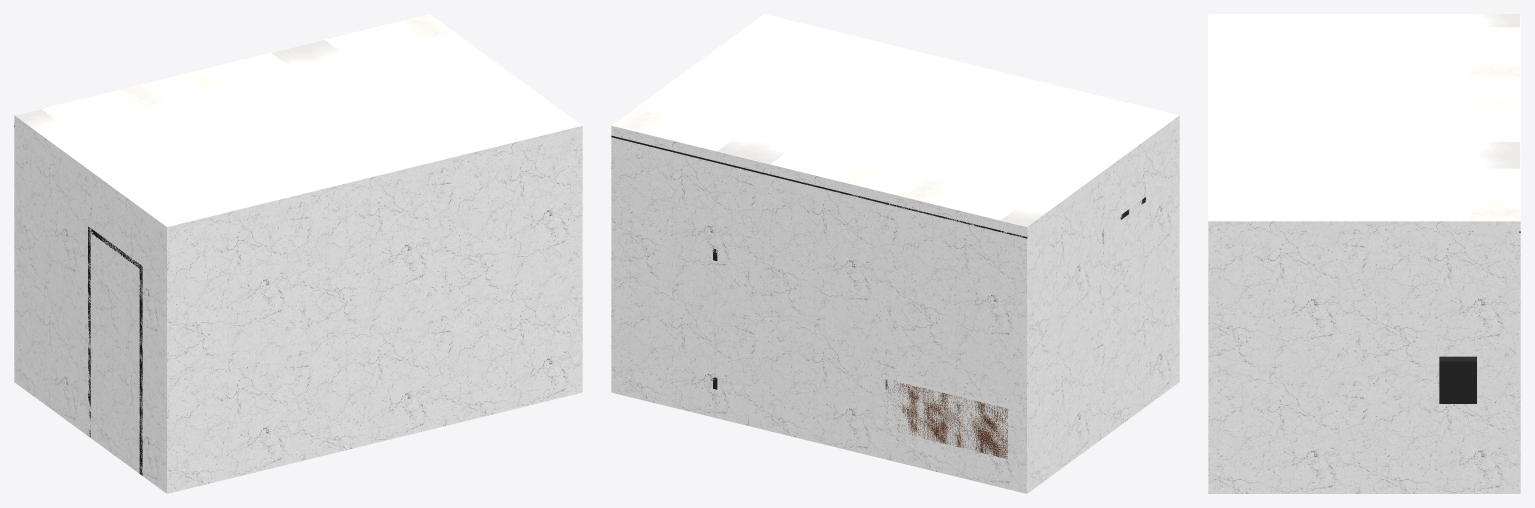
Rendered from room.glb.
3 renders of one model, left to right at view 1: azimuth 30°, elevation 25°; view 2: azimuth 150°, elevation 25°; view 3: azimuth 270°, elevation 25°, orthographic. The views are drawn at different scales.
Visible parts, largest first — view 1: Shell_Front Wall, Shell_Ceiling, Shell_Left Wall, Door Frame; view 2: Shell_Back Wall, Shell_Ceiling, Shell_Left Wall, LM_Vanity, Shadow Gap; view 3: Shell_Right Wall, Shell_Ceiling, Niche.
Boxes of the visible parts, x1=… form: Shell_Front Wall: x1=167, y1=126, x2=582, y2=493; Shell_Ceiling: x1=15, y1=14, x2=582, y2=226; Shell_Left Wall: x1=14, y1=115, x2=166, y2=493; Door Frame: x1=88, y1=226, x2=142, y2=475; Shell_Back Wall: x1=611, y1=126, x2=1026, y2=493; Shell_Ceiling: x1=611, y1=14, x2=1178, y2=226; Shell_Left Wall: x1=1027, y1=115, x2=1179, y2=493; LM_Vanity: x1=882, y1=375, x2=1010, y2=458; Shadow Gap: x1=611, y1=135, x2=1027, y2=238; Shell_Right Wall: x1=1208, y1=221, x2=1520, y2=493; Shell_Ceiling: x1=1208, y1=14, x2=1520, y2=221; Niche: x1=1439, y1=356, x2=1476, y2=403.
Bounding box in the file's own units: 4.51 × 2.7 × 2.8.
Materials: 27 (9 with a texture image).
